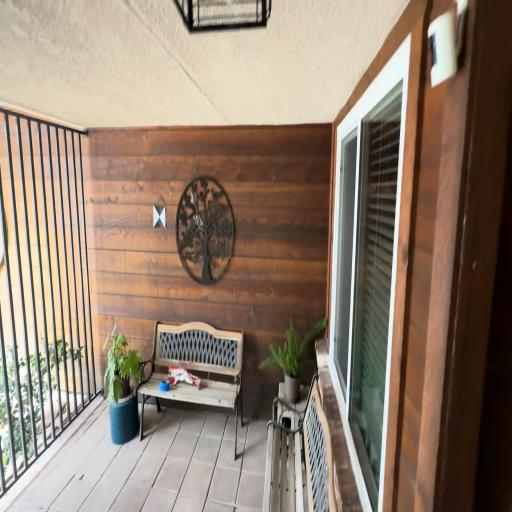target: (153, 205, 166, 228)
